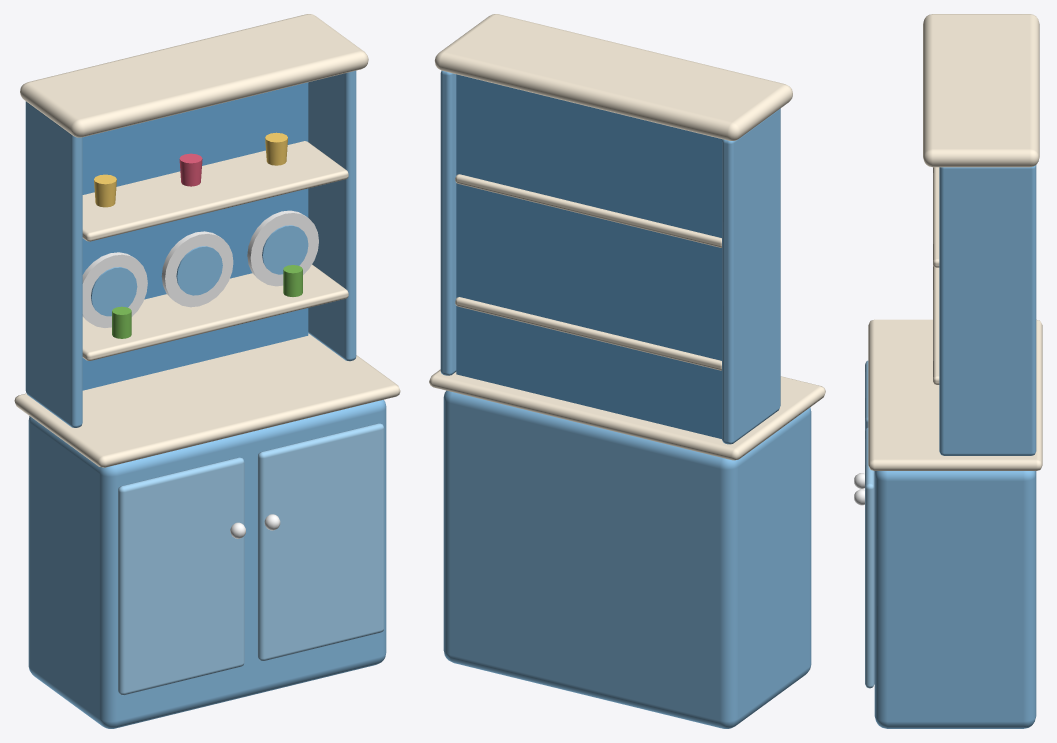
File: pantry-hutch.glb
3 views of the same model, side by side, from view 1: azimuth 30°, elevation 25°; view 2: azimuth 150°, elevation 25°; view 3: azimuth 270°, elevation 25° (orthographic). The views are drawn at different scales.
Size of the model in its own units: 1.06 by 1.99 by 0.5832.
